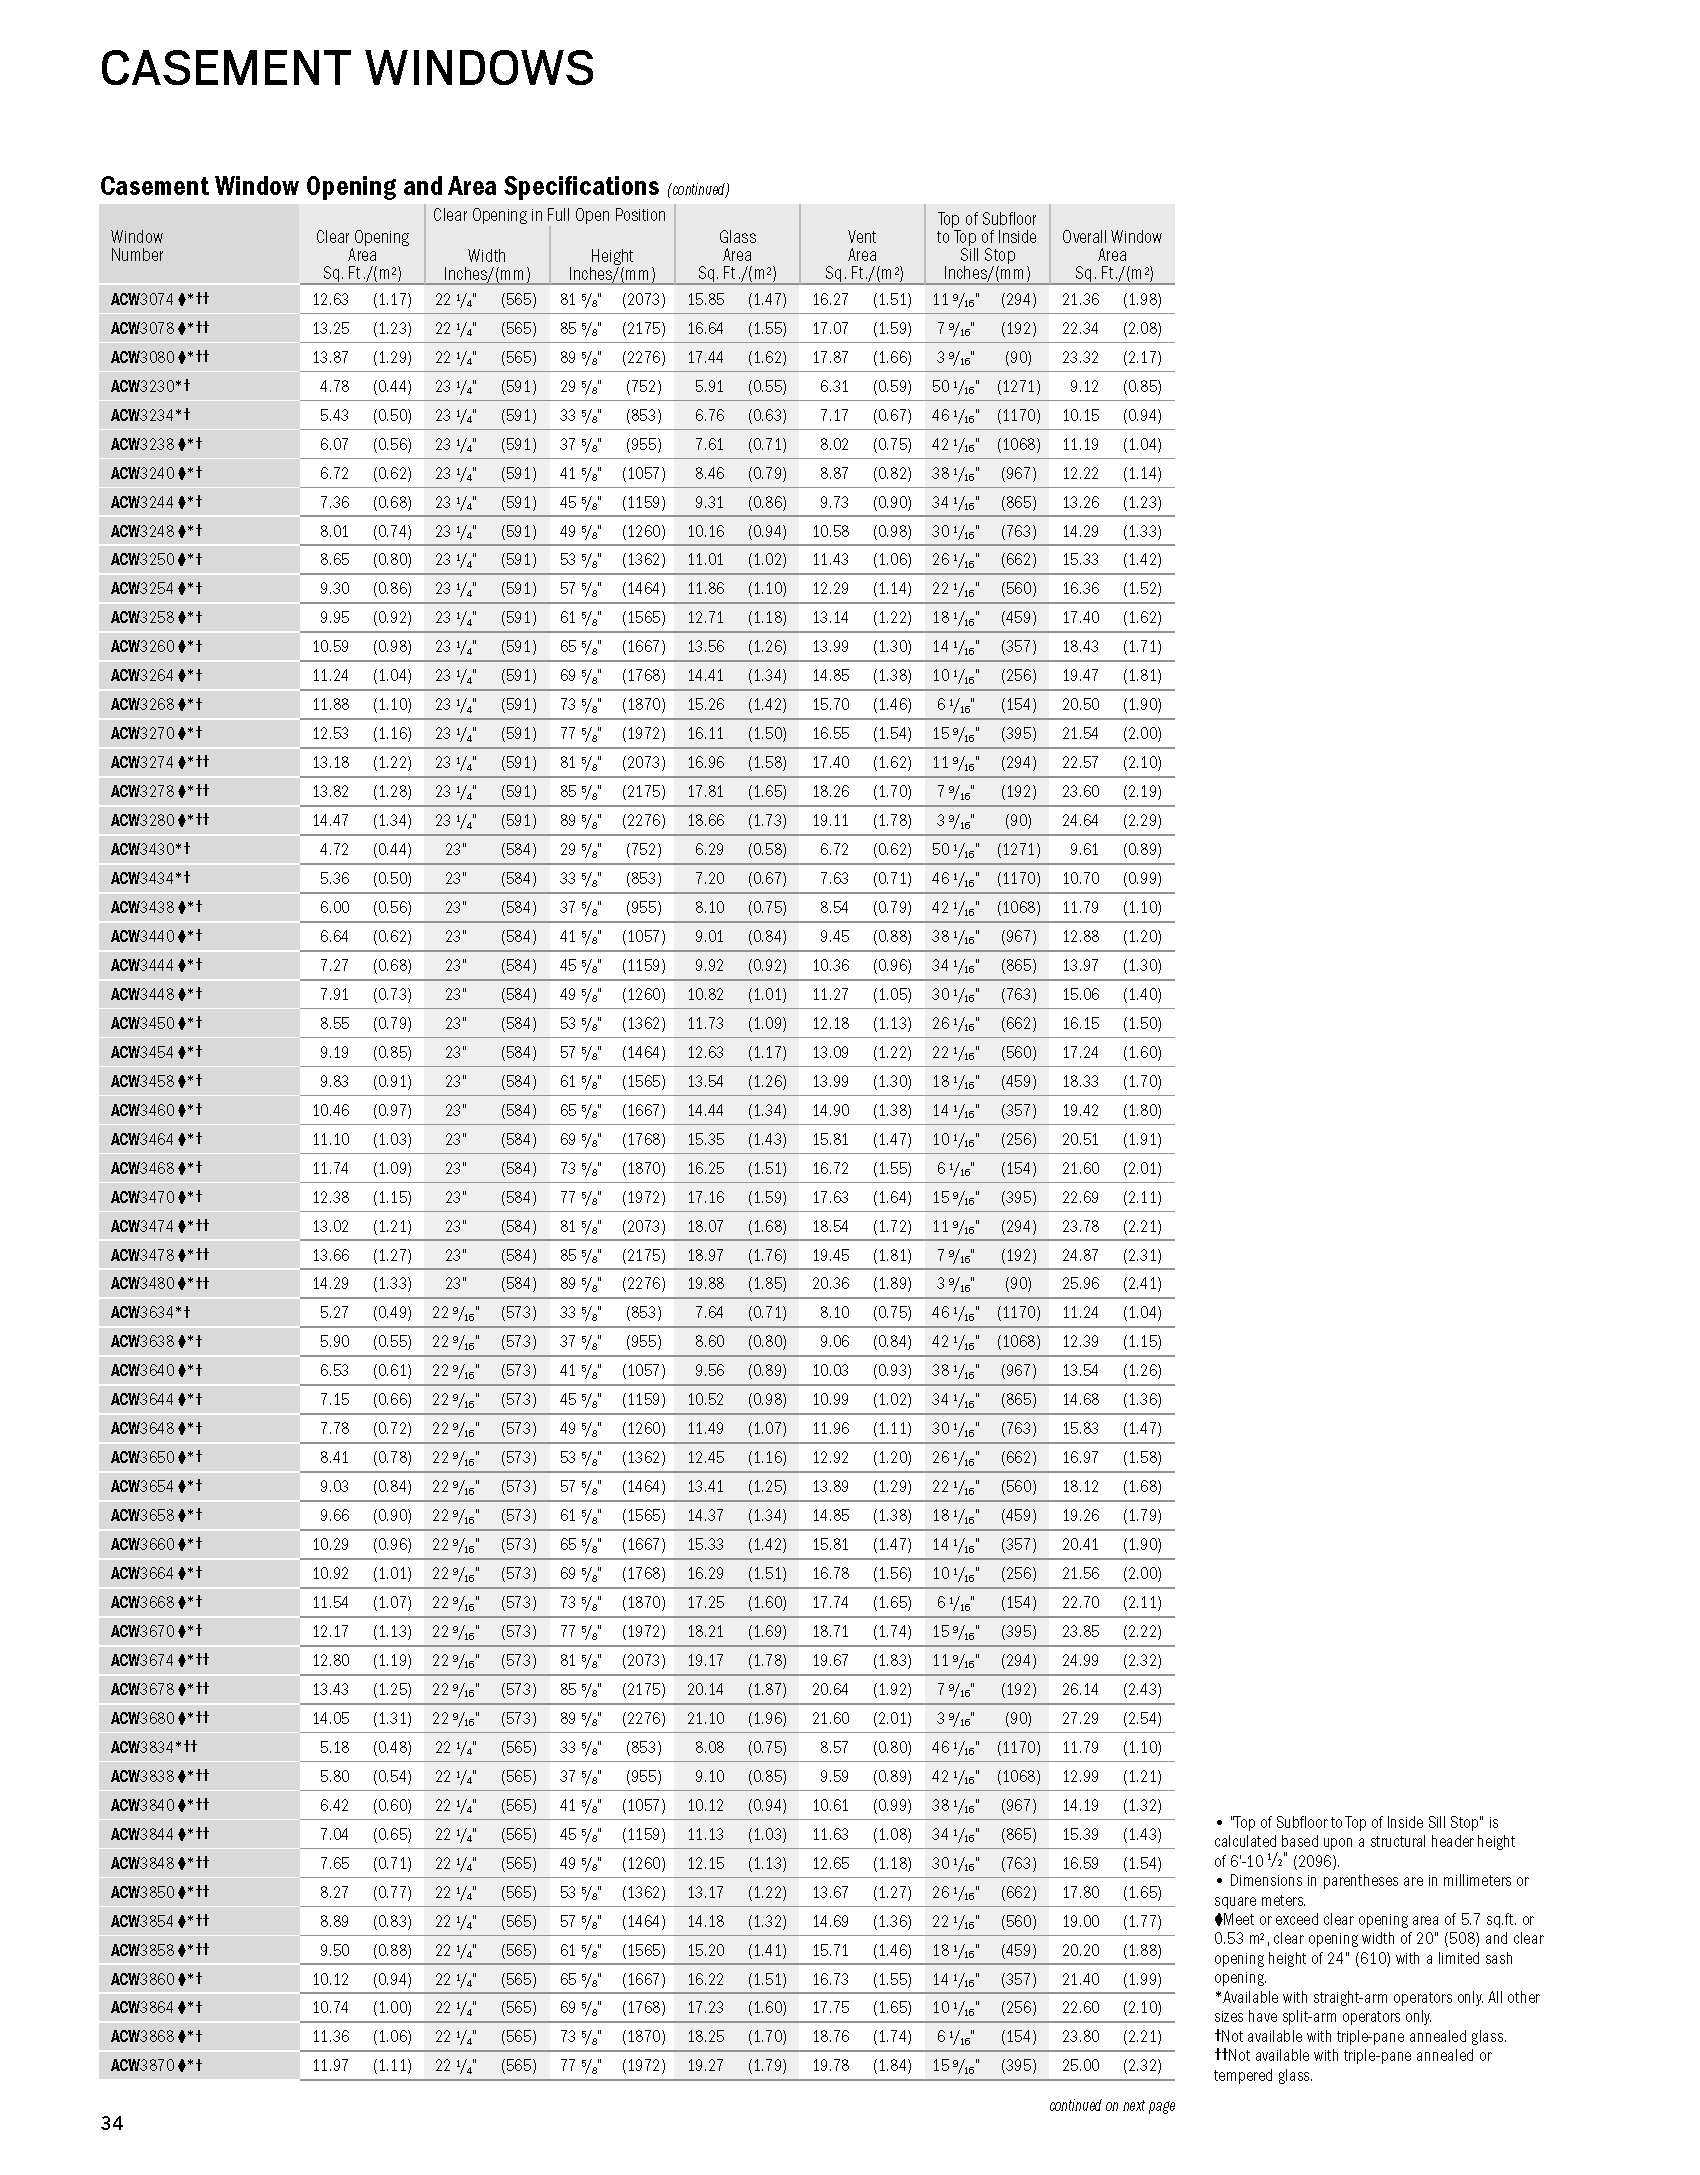tabledetected: (101, 207, 1177, 2083)
